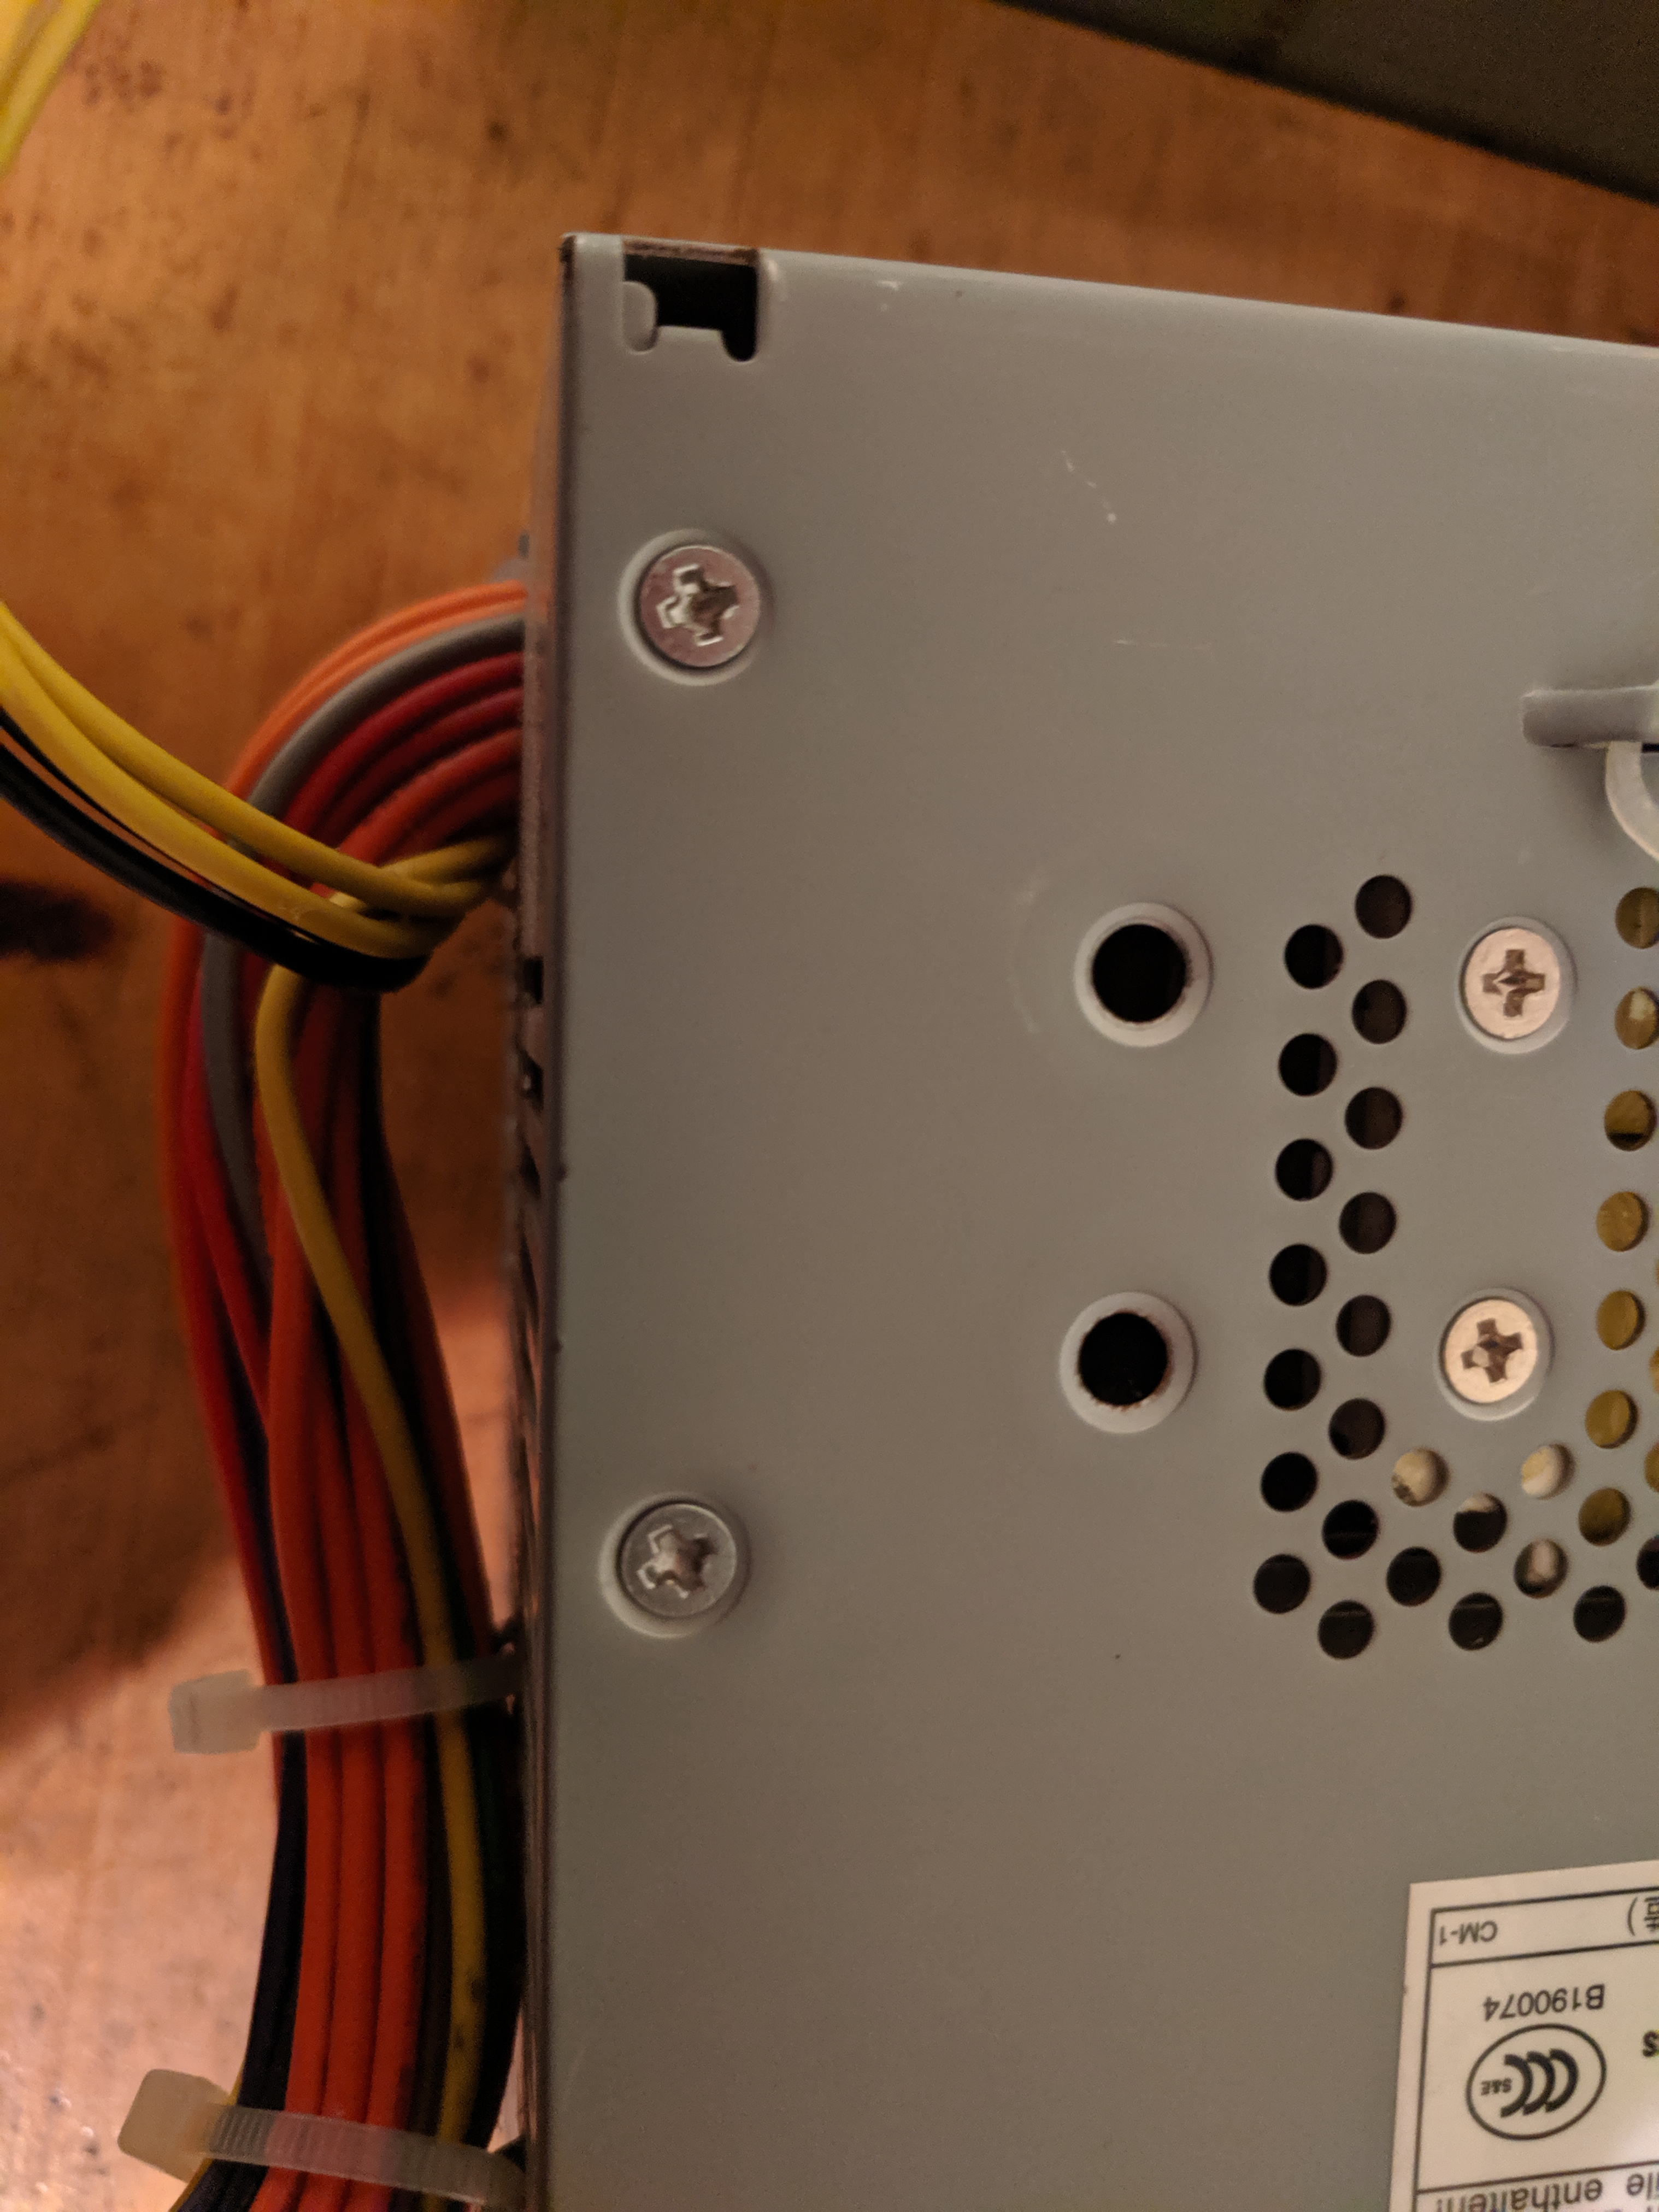cross_recessed_screw: (2, 721, 118, 850), (887, 911, 990, 1022), (910, 718, 1011, 831), (929, 1878, 1032, 1977)
